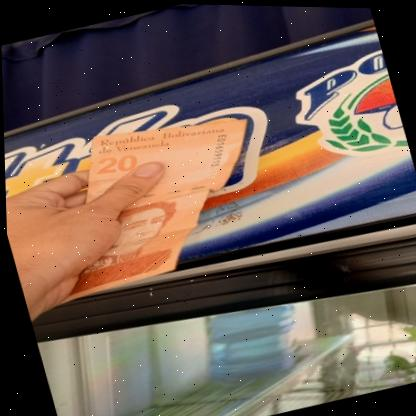twenty-front-vef: (14, 96, 285, 309)
